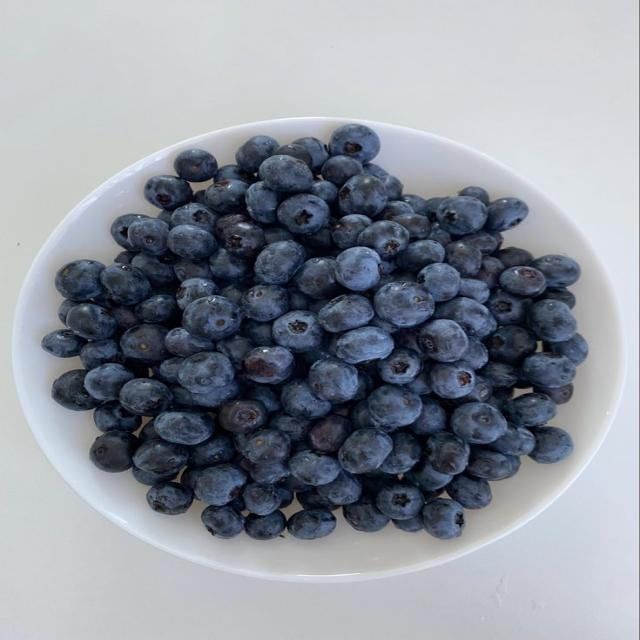blueberry: (374, 282, 434, 327), (182, 296, 242, 340), (434, 298, 497, 338), (368, 385, 422, 429), (450, 403, 507, 444), (339, 429, 392, 473), (178, 352, 234, 393), (254, 241, 305, 284), (336, 326, 393, 364), (308, 358, 357, 402), (273, 311, 325, 352), (318, 295, 374, 333), (419, 319, 468, 362), (527, 300, 577, 342), (195, 464, 246, 505), (55, 259, 104, 301), (259, 155, 313, 193), (89, 430, 137, 472), (338, 175, 387, 216), (101, 264, 151, 304), (358, 221, 410, 259), (487, 325, 536, 365), (437, 196, 487, 235), (155, 411, 214, 444), (329, 124, 380, 162), (337, 247, 381, 291), (425, 432, 470, 475), (294, 257, 341, 298), (52, 370, 100, 410), (121, 324, 169, 364), (244, 346, 294, 384), (522, 353, 576, 388), (120, 379, 172, 415), (133, 439, 188, 473), (84, 363, 134, 400), (503, 393, 557, 427), (282, 380, 330, 418), (240, 285, 289, 321), (67, 303, 116, 339), (290, 451, 340, 486), (417, 263, 461, 302), (167, 225, 217, 259), (422, 499, 464, 539), (144, 175, 192, 210), (307, 414, 351, 452), (218, 399, 267, 433), (430, 361, 475, 398), (344, 496, 390, 532), (377, 484, 424, 519), (380, 433, 421, 473), (529, 255, 580, 287), (290, 476, 337, 510), (221, 223, 264, 260), (378, 349, 422, 385), (446, 474, 491, 509), (486, 290, 531, 325), (236, 135, 278, 172), (243, 430, 290, 463), (529, 427, 572, 463), (317, 471, 362, 505), (130, 253, 175, 287), (287, 509, 336, 540), (147, 482, 193, 515), (405, 458, 451, 491), (245, 182, 281, 224), (205, 180, 248, 215), (397, 240, 444, 272), (466, 447, 511, 480), (190, 434, 235, 467), (165, 328, 214, 358), (488, 425, 535, 456), (94, 401, 141, 432), (128, 219, 169, 254), (499, 266, 545, 297), (485, 198, 528, 231), (110, 214, 148, 251), (409, 396, 446, 434), (202, 506, 244, 539), (209, 248, 252, 280), (174, 150, 217, 182), (445, 240, 482, 277), (81, 339, 125, 370), (176, 278, 218, 310), (297, 221, 333, 258), (332, 215, 371, 249), (293, 137, 329, 173), (216, 334, 253, 369), (41, 330, 87, 358), (322, 156, 363, 187), (245, 510, 286, 540), (270, 413, 312, 442), (243, 483, 281, 515), (135, 295, 178, 323), (453, 374, 493, 404), (479, 361, 518, 388), (474, 256, 505, 288), (215, 211, 253, 236), (358, 470, 397, 494), (274, 143, 311, 168), (247, 386, 281, 413), (349, 399, 379, 429), (132, 466, 176, 486), (173, 259, 213, 281), (461, 338, 488, 370), (394, 328, 424, 356), (535, 288, 576, 308), (377, 199, 416, 220), (250, 462, 289, 483), (495, 247, 533, 268), (214, 165, 256, 184), (465, 231, 498, 255), (402, 194, 432, 220), (534, 384, 573, 404), (467, 314, 498, 339), (459, 278, 490, 303), (110, 305, 139, 331), (245, 320, 274, 346), (169, 384, 198, 409), (378, 175, 404, 201), (487, 388, 514, 412), (310, 181, 337, 205), (220, 282, 247, 304), (58, 299, 80, 325), (459, 186, 489, 205), (428, 223, 451, 247), (392, 515, 424, 532), (180, 466, 202, 490), (139, 418, 159, 443), (503, 455, 521, 479), (364, 163, 388, 178), (423, 488, 444, 502), (192, 189, 205, 204)
